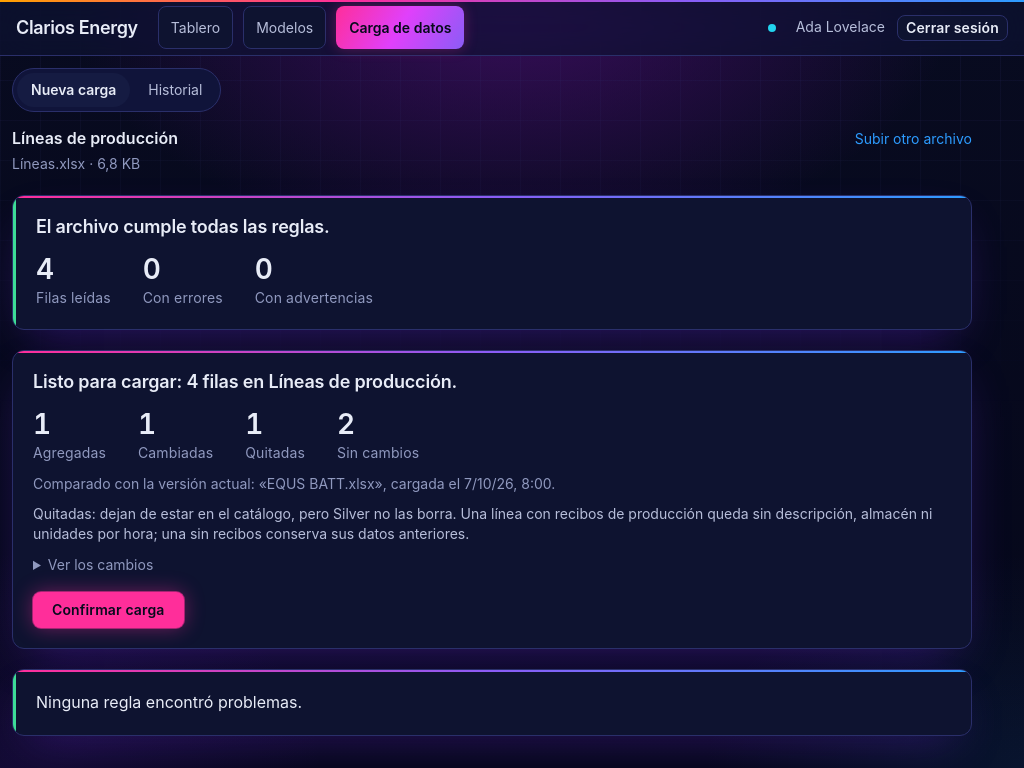
Test case: the confirmation of a catalogue › shows how it differs from the current version, and the rows on request
Expected: the text "Sin cambios" is shown, [337,442,419,464]
Expected: the text "Quitadas: dejan de estar en el catálogo, pero Silver no las borra. Una línea con recibos de producción queda sin descrip" is shown, [33,505,932,542]
Click the heading "Ver los cambios": {"x": 100, "y": 565} [48,556,153,573]
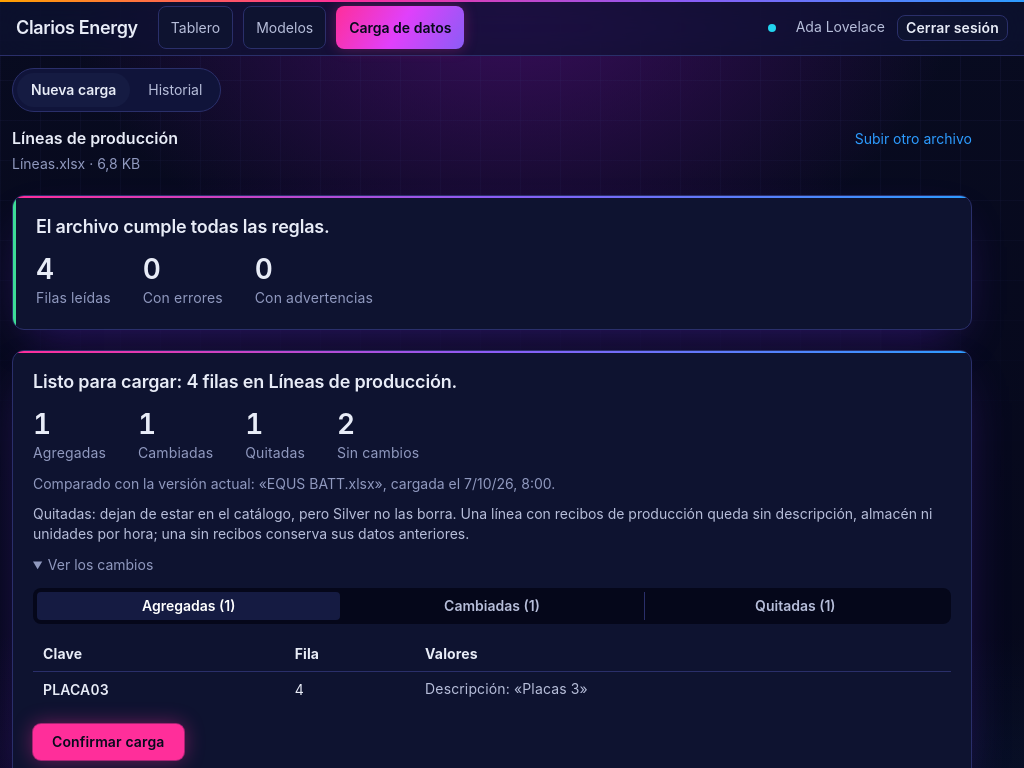
Expected: the text "PLACA03" is shown, [33,672,285,708]
Click the radio button labelled "Cambiadas (1)": {"x": 492, "y": 606} [444,597,540,614]
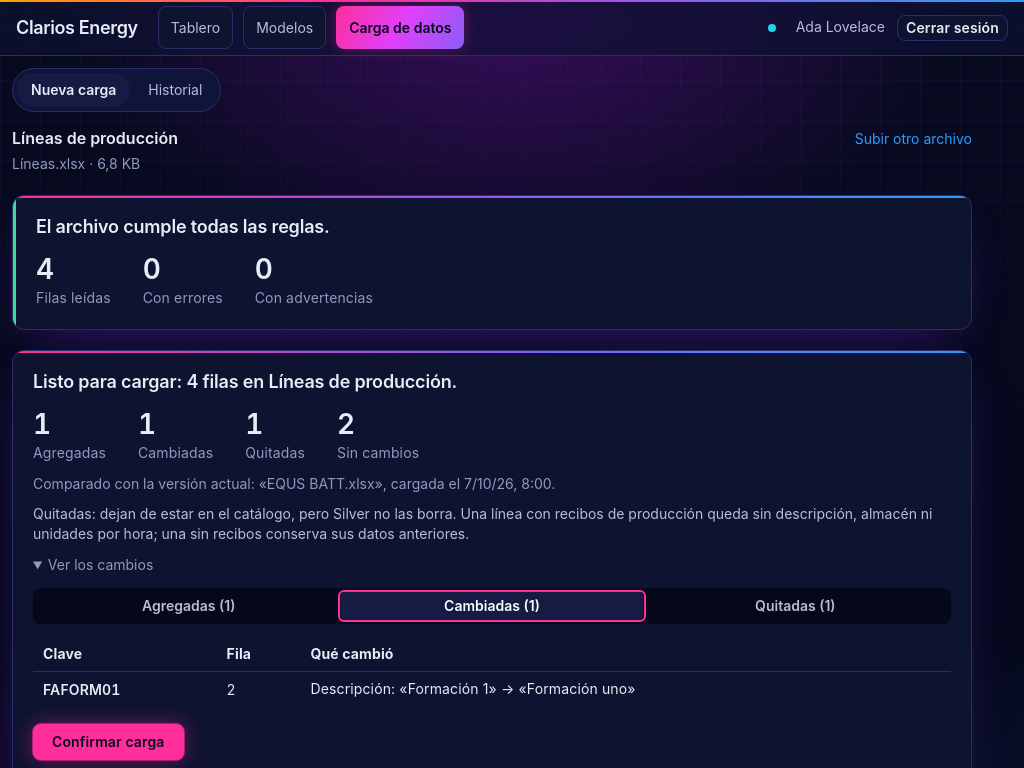
Expected: the text "«Formación 1»" is shown, [399,680,497,698]
Expected: the text "«Formación uno»" is shown, [518,680,636,698]
